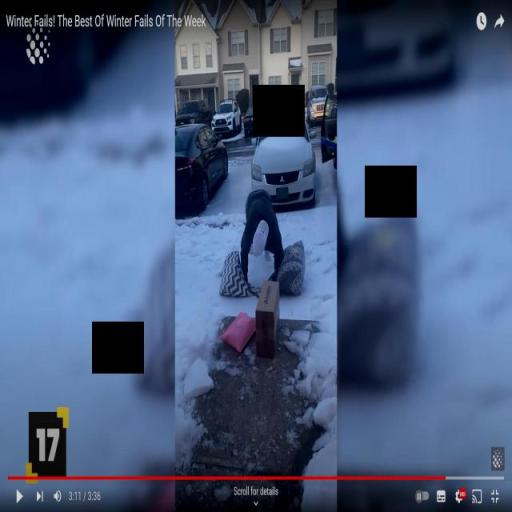Fall: (234, 183, 290, 296)
